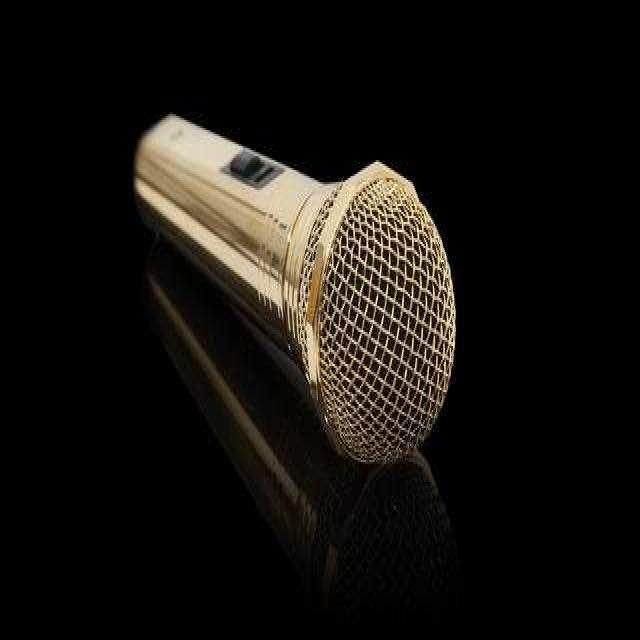microphone: (136, 113, 452, 468)
